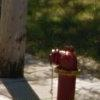Hydrant: (42, 40, 89, 100)
